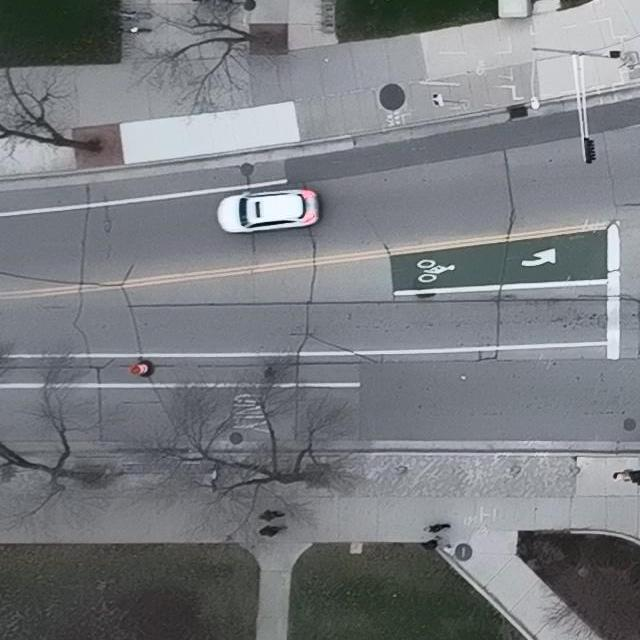car: (217, 190, 319, 233)
